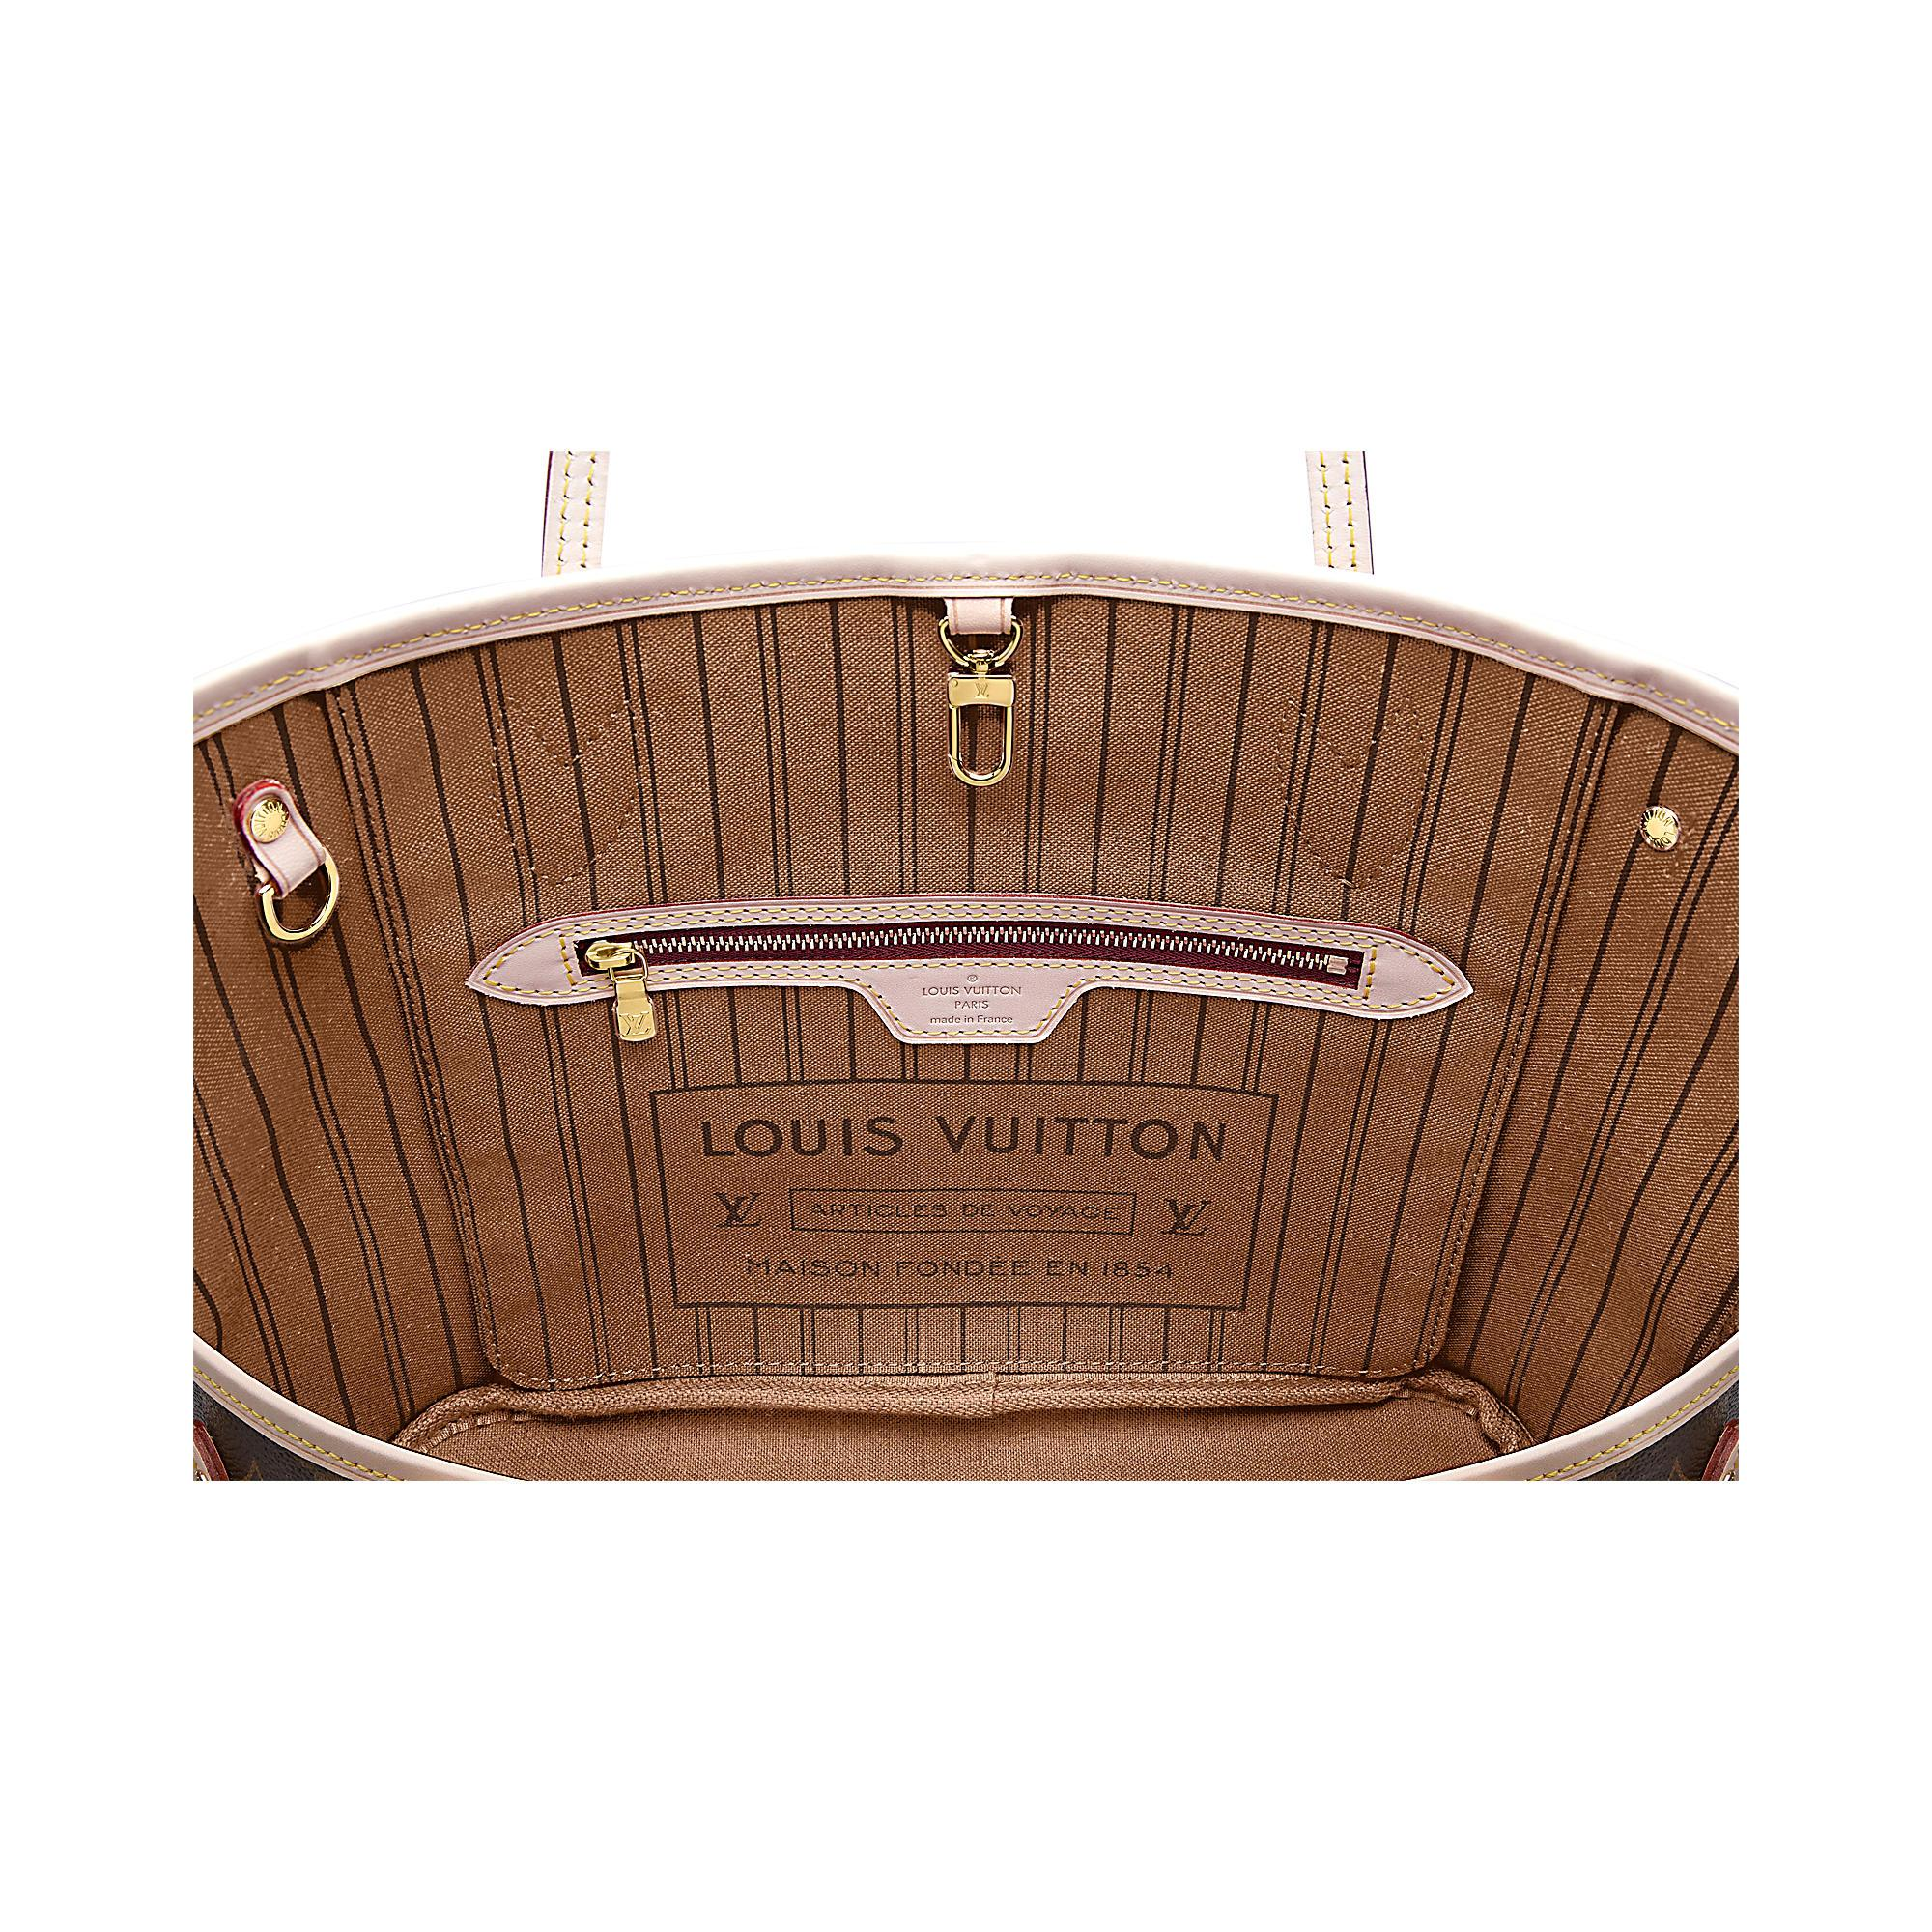LOUIS-VUITTON: (970, 678, 994, 699)
